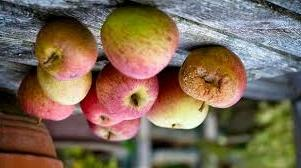rotten apple: (176, 42, 254, 112)
